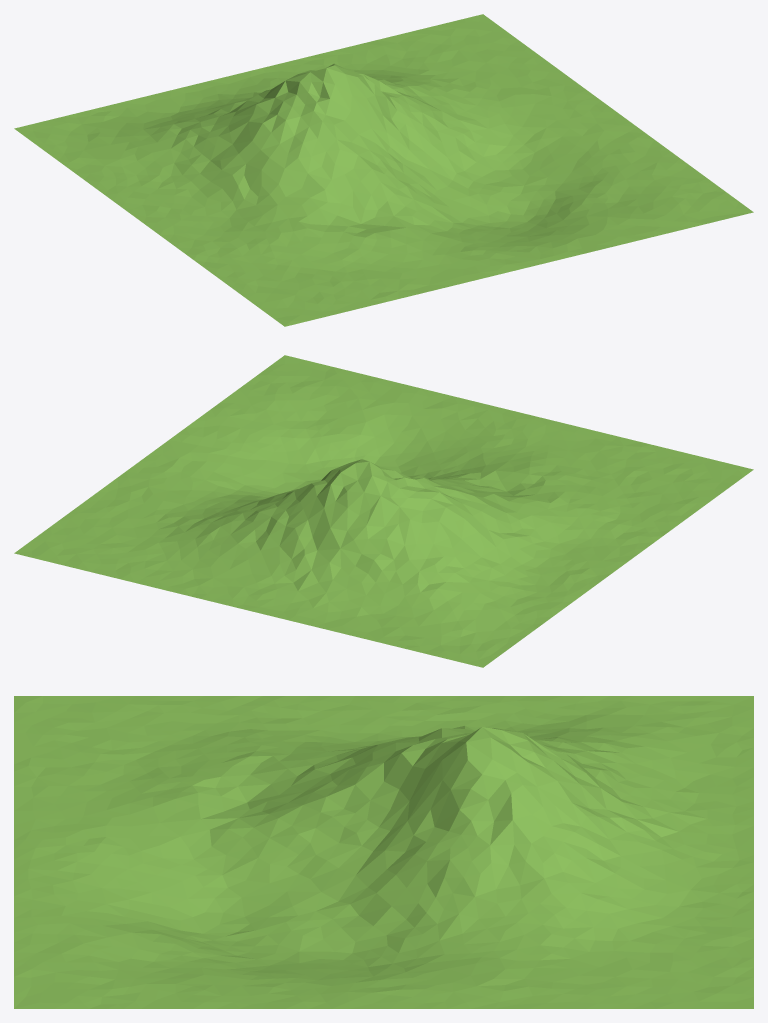
The model's file is MT_Terrain_L_b_18_LOD.fbx.
The picture shows the model from 3 angles, top to bottom: view 1: azimuth 30°, elevation 25°; view 2: azimuth 150°, elevation 25°; view 3: azimuth 270°, elevation 25°; orthographic projection. The views are drawn at different scales.
Visible parts, largest first — view 1: MT_Terrain_L_b_18_LOD0; view 2: MT_Terrain_L_b_18_LOD0; view 3: MT_Terrain_L_b_18_LOD0.
Part boxes in pixels (<box>): MT_Terrain_L_b_18_LOD0: <box>14,14,753,326</box>; MT_Terrain_L_b_18_LOD0: <box>14,355,753,667</box>; MT_Terrain_L_b_18_LOD0: <box>14,696,753,1008</box>.
Size of what is drawn, in the model's own units: 10000 by 2118 by 10000.
